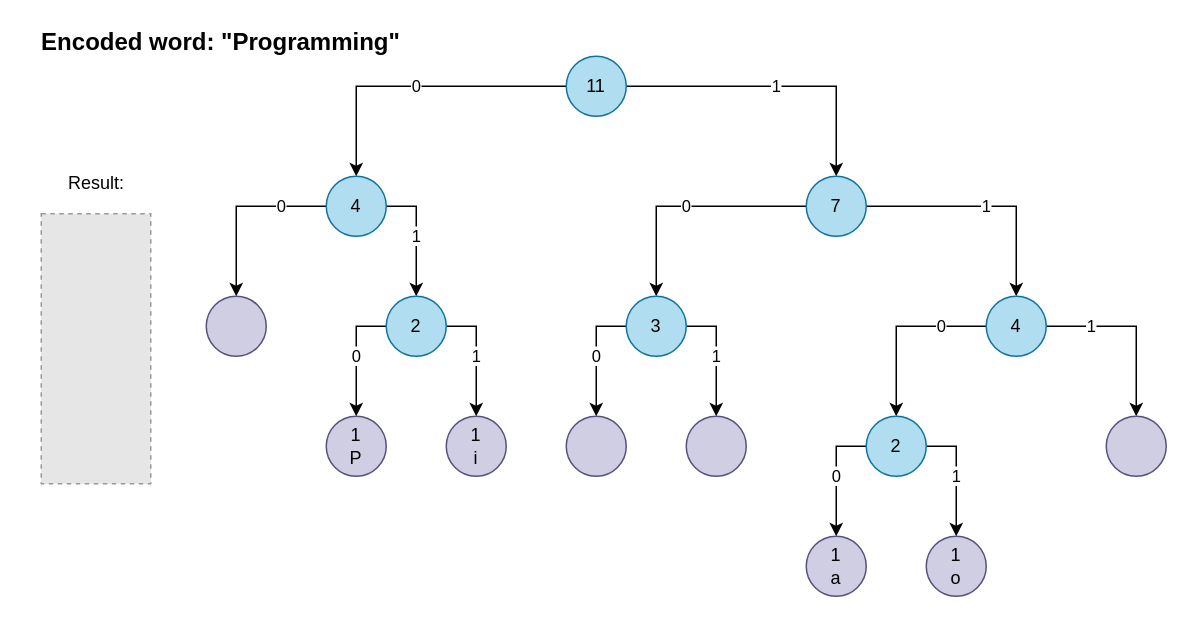
This 1193x623 diagram has some shape labels left out. Grey dashed boxes stand in for pictures. Each missing label, with the box of its shape:
1 n: (565, 415, 626, 476)
2 g: (1105, 415, 1166, 476)
2 m: (685, 415, 746, 476)
2 r: (205, 295, 266, 356)
